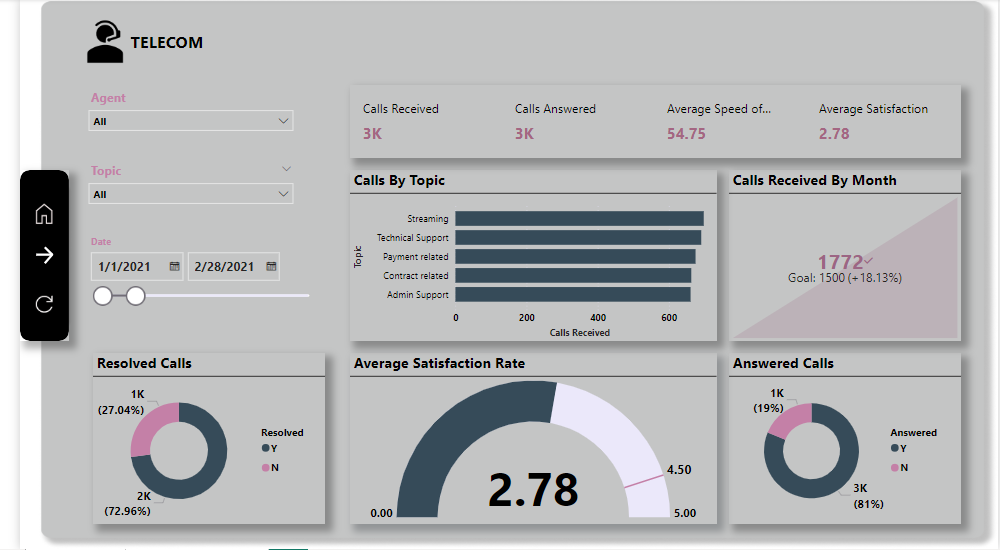

This screenshot's page, from the dashboard's own definition file:
{"tool":"powerbi","page":{"name":"Dashboard","canvas":[1280,720],"ordinal":0},"visuals":[{"type":"shape","box":[0,224,64,224],"z":0},{"type":"image","box":[16,256,32,48],"z":1000},{"type":"image","box":[16,384,32,32],"z":2000},{"type":"image","box":[32,16,160,80],"z":3000},{"type":"shape","box":[48,16,288,80],"z":4000},{"type":"cardVisual","fields":{"Data":["telecom.NO of calls received","telecom.no of calls answered","telecom.avg Speed of Answer","telecom.Avgsatisfaction"]},"box":[432,112,800,96],"z":5000},{"type":"donutChart","title":"Answered Calls","fields":{"Category":["telecom.Answered (Y/N)"],"Y":["telecom.NO of calls received"]},"box":[928,464,304,224],"z":6000},{"type":"donutChart","title":"Resolved Calls","fields":{"Category":["telecom.Resolved"],"Y":["telecom.NO of calls received"]},"box":[96,464,304,224],"z":7000},{"type":"gauge","title":"Average Satisfaction Rate","fields":{"Y":["telecom.Avgsatisfaction"],"TargetValue":["telecom.Target satisfaction"],"MaxValue":["telecom.Max Satisfaction"]},"box":[432,464,480,224],"z":8000},{"type":"kpi","title":"Calls Received By Month","fields":{"Indicator":["telecom.NO of calls received"],"TrendLine":["Calendar.Date Hierarchy.Month"],"Goal":["telecom.Target calls Received"]},"box":[928,224,304,224],"z":9000},{"type":"clusteredBarChart","title":"Calls By Topic","fields":{"Y":["telecom.NO of calls received"],"Category":["telecom.Topic"]},"box":[432,224,480,224],"z":9001},{"type":"slicer","fields":{"Values":["telecom.Agent"]},"box":[80,112,288,64],"z":9002},{"type":"slicer","fields":{"Values":["telecom.Topic"]},"box":[80,208,288,64],"z":9003},{"type":"slicer","fields":{"Values":["Calendar.Date"]},"box":[80,304,320,112],"z":9004},{"type":"actionButton","box":[16,320,32,32],"z":9005}]}

Visuals, with their boxes on the page's 1280x720 design canvas (x1, y1, x2, y2). These are canvas units, not pixel positions in the 1000x550 screenshot, which may show the page scaled, cropped or inside an application window:
shape: crop(0, 224, 64, 448)
image: crop(16, 256, 48, 304)
image: crop(16, 384, 48, 416)
image: crop(32, 16, 192, 96)
shape: crop(48, 16, 336, 96)
cardVisual - telecom.NO of calls received x telecom.no of calls answered: crop(432, 112, 1232, 208)
"Answered Calls" donutChart: crop(928, 464, 1232, 688)
"Resolved Calls" donutChart: crop(96, 464, 400, 688)
"Average Satisfaction Rate" gauge: crop(432, 464, 912, 688)
"Calls Received By Month" kpi: crop(928, 224, 1232, 448)
"Calls By Topic" clusteredBarChart: crop(432, 224, 912, 448)
slicer - telecom.Agent: crop(80, 112, 368, 176)
slicer - telecom.Topic: crop(80, 208, 368, 272)
slicer - Calendar.Date: crop(80, 304, 400, 416)
actionButton: crop(16, 320, 48, 352)
